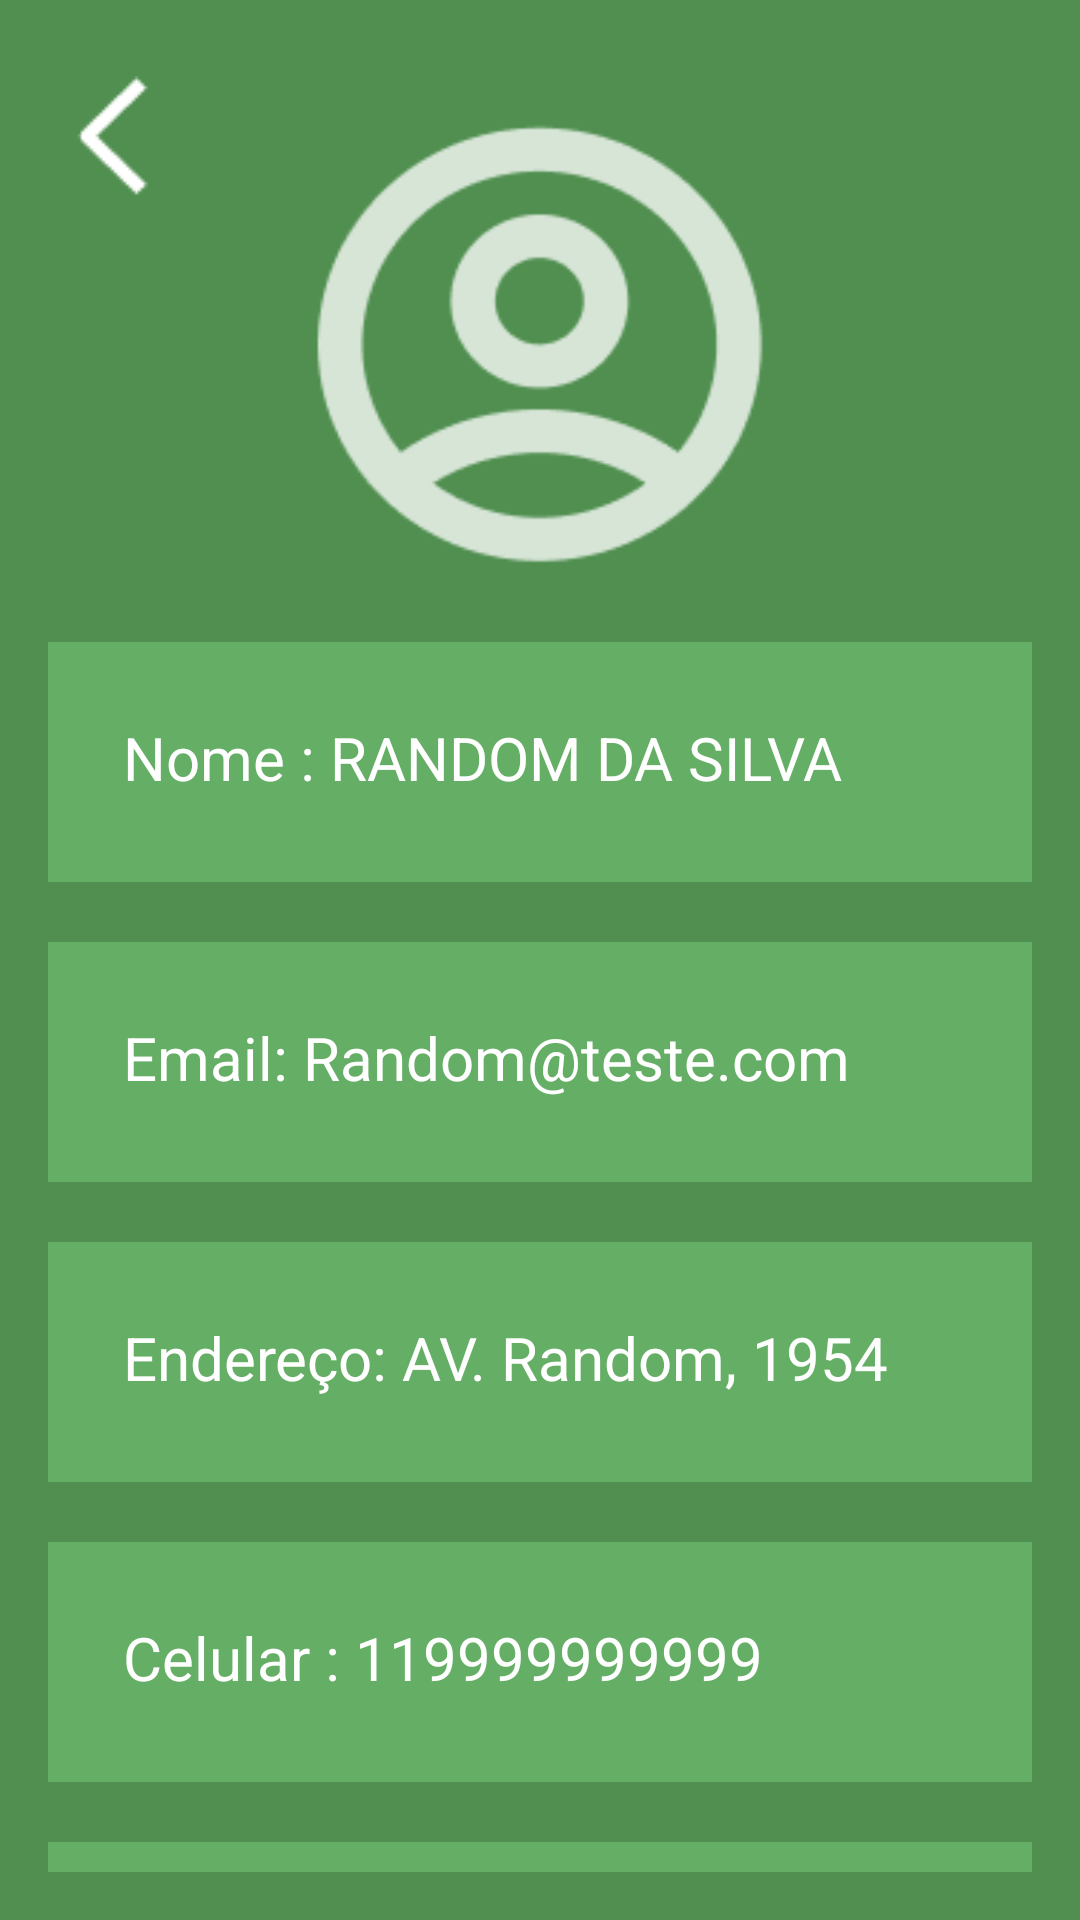

Where to tap for icons on this 1080w x 1920h app screen, as (x,y):
Voltar: (113,136)
